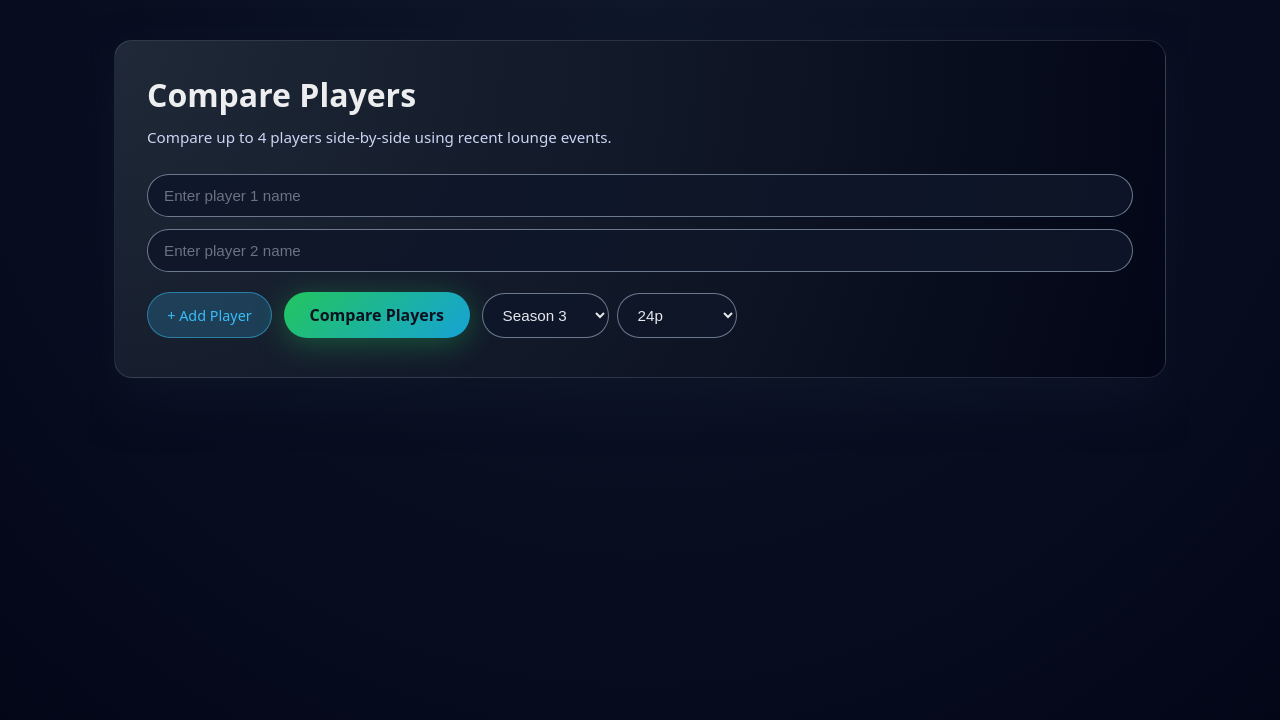
Test: PlayerComparison shareable links › shows the head-to-head record from shared tables
Type "Amy" into the dropdown labelled "player 1 name" at point(640, 196), box [147,174,1133,217]
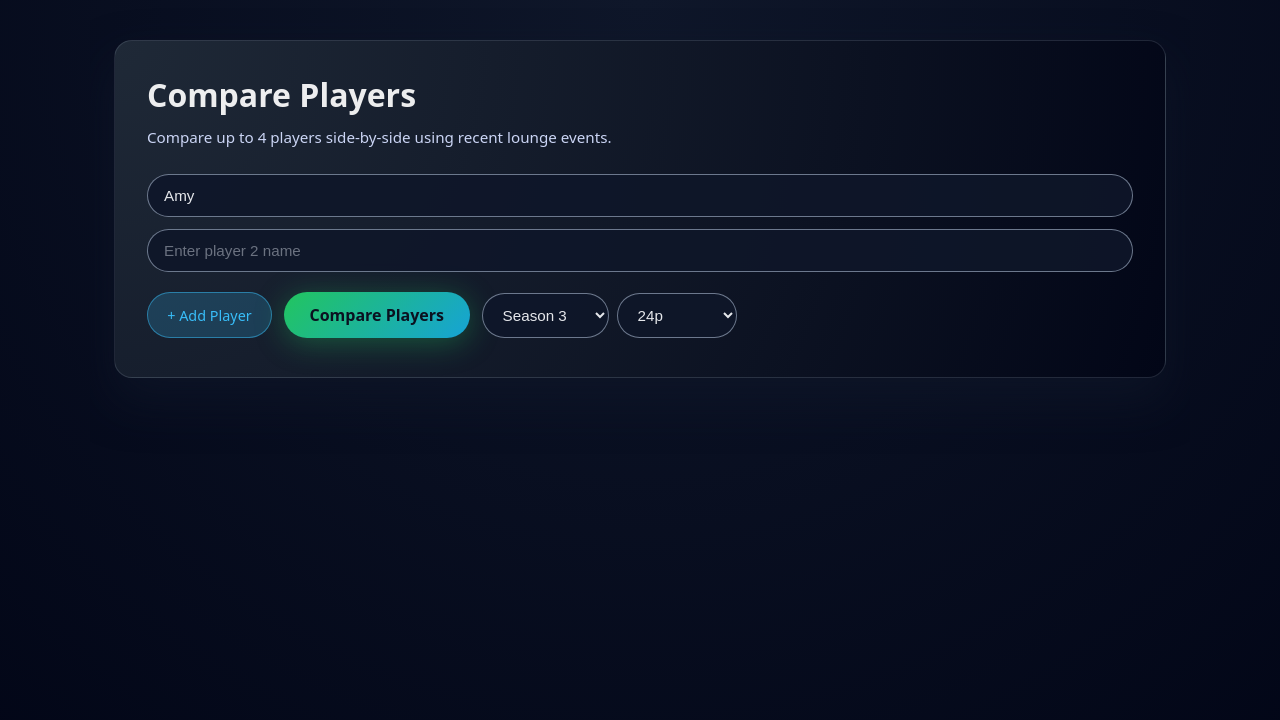
Type "Zed" into the dropdown labelled "player 2 name" at point(640, 251), box [147,229,1133,272]
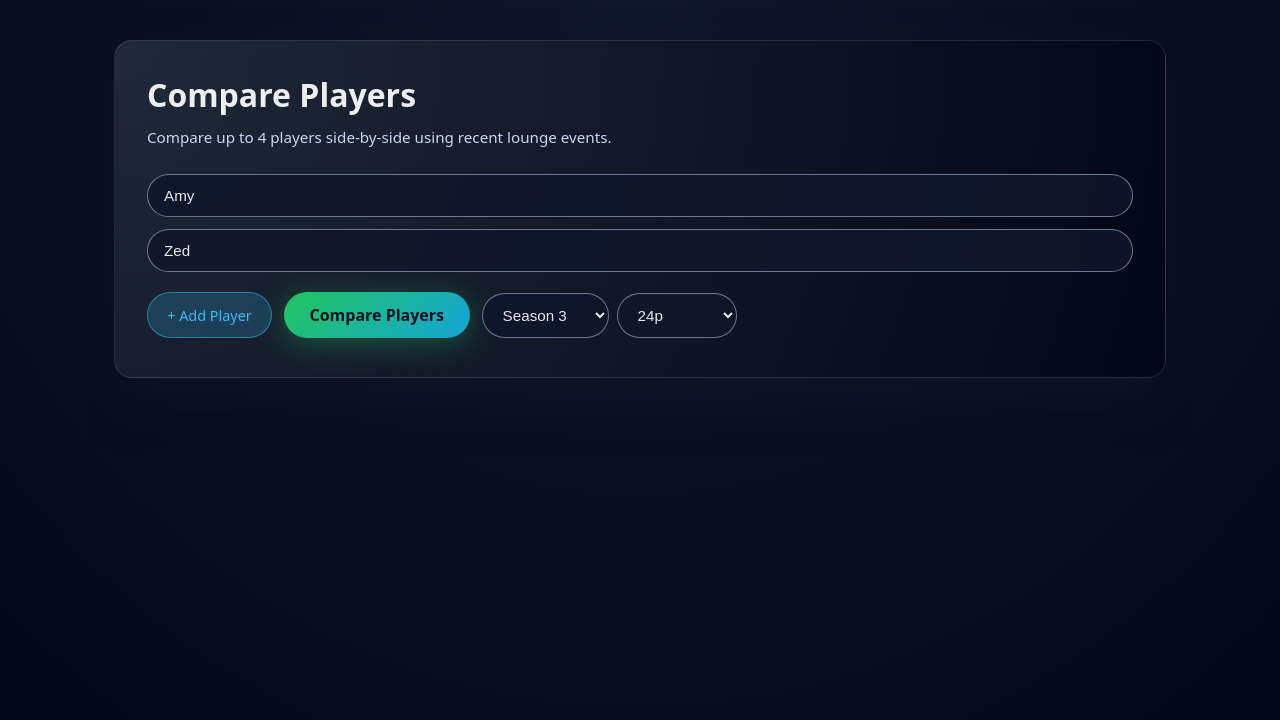
Click the button with aria-label "Compare selected players" at point(377, 315), box [284,292,470,338]
(page scrolled)
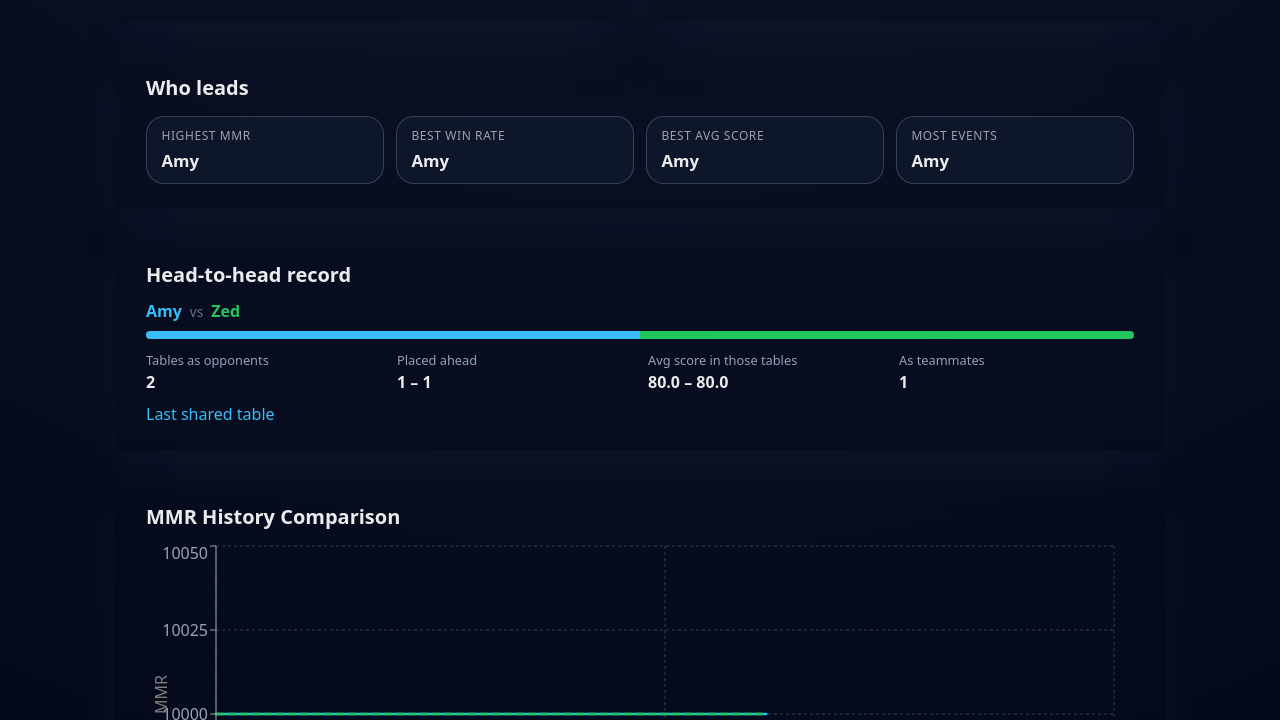
Check: the heading "Head-to-head record" is shown, box [146,261,351,288]
Check: the text "1 – 1" is shown, box [397,371,432,393]
Check: the picture named "Amy placed ahead 1 time, Zed 1 time" is shown, box [146,331,1134,339]
